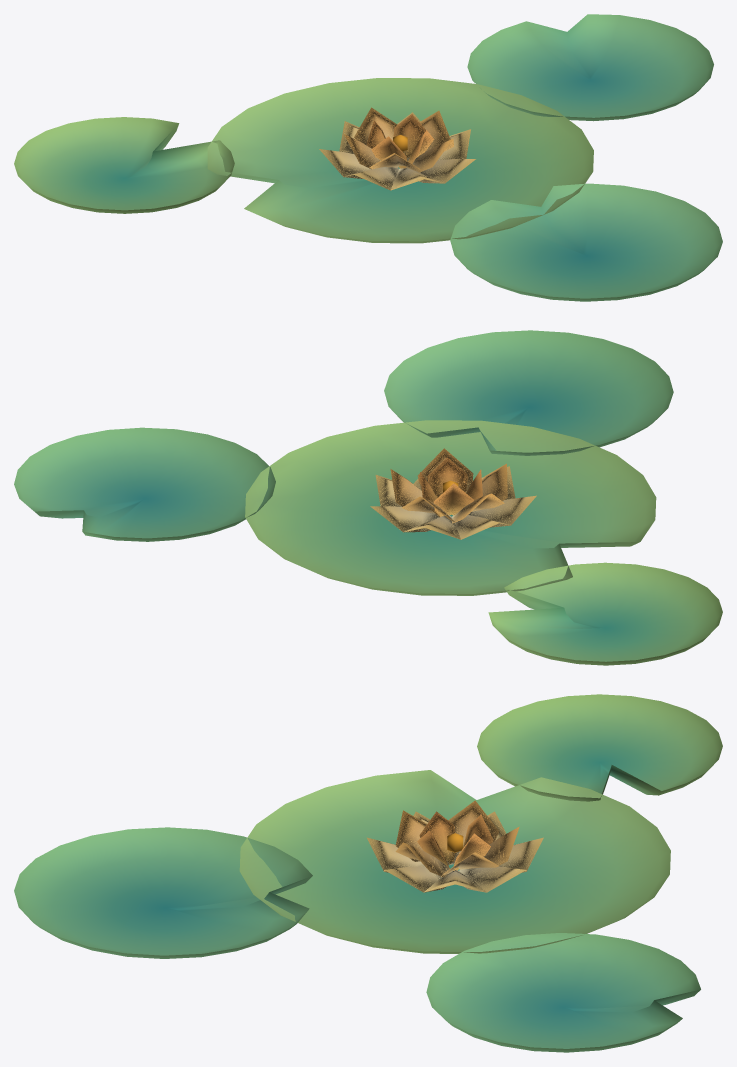
File: verdant_ground_lily_flower.glb
The picture shows the model from 3 angles, top to bottom: view 1: azimuth 30°, elevation 25°; view 2: azimuth 150°, elevation 25°; view 3: azimuth 270°, elevation 25°; orthographic projection. The views are drawn at different scales.
Parts seen in each view (by area): view 1: verdant_ground_lily_flower; view 2: verdant_ground_lily_flower; view 3: verdant_ground_lily_flower.
Part boxes in pixels (x1,y1,x2,y2): verdant_ground_lily_flower: (14,14,722,301); verdant_ground_lily_flower: (14,330,722,665); verdant_ground_lily_flower: (14,694,722,1052).
Size of the model in its own units: 2.32 by 0.173 by 1.96.
